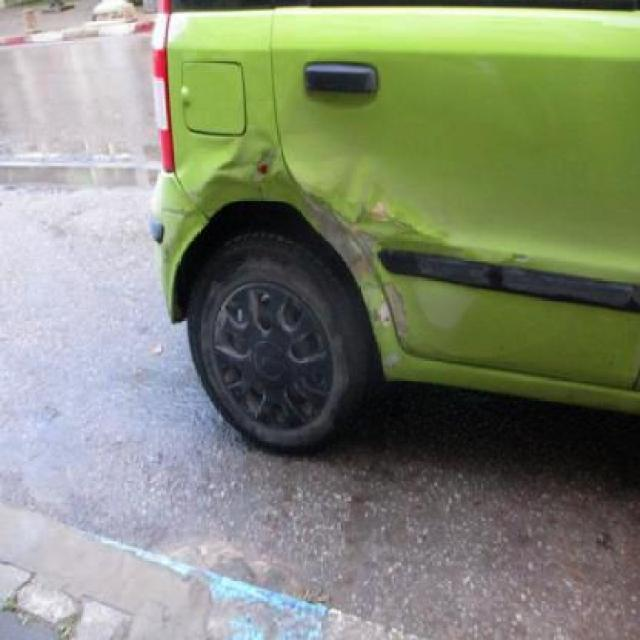car damage: (355, 195, 529, 343), (282, 120, 390, 218), (190, 164, 271, 216), (222, 130, 280, 187)
